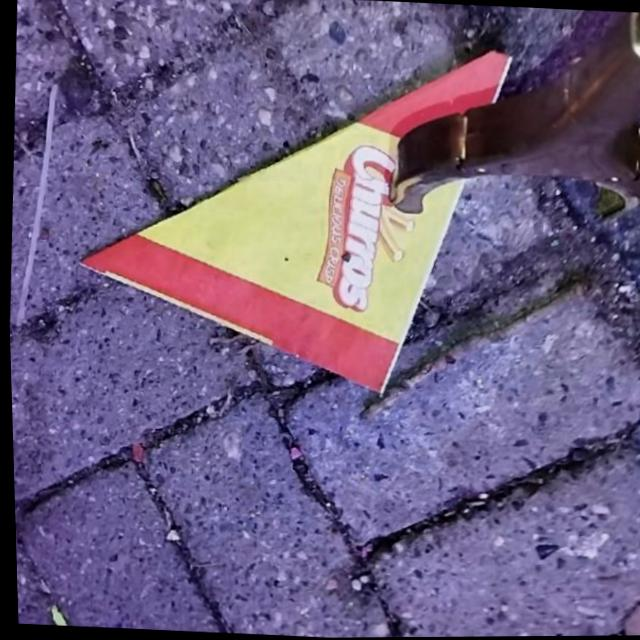Paper: (60, 24, 526, 407)
